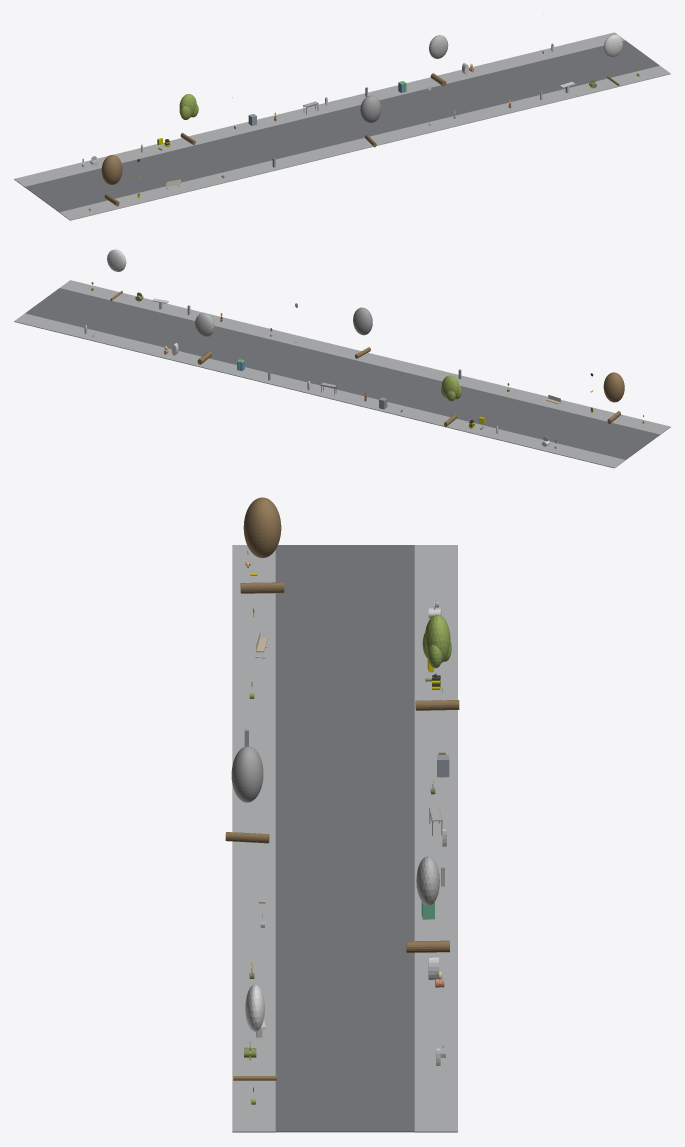
3 renders of one model, top to bottom at view 1: azimuth 30°, elevation 25°; view 2: azimuth 150°, elevation 25°; view 3: azimuth 270°, elevation 25°, orthographic. The views are drawn at different scales.
Parts seen in each view (by area): view 1: road_slab, sidewalk_left, sidewalk_right, inst_0012, inst_0014, inst_0013, inst_0015, inst_0016; view 2: road_slab, sidewalk_right, sidewalk_left, inst_0012, inst_0014, inst_0013, inst_0015, inst_0016; view 3: road_slab, sidewalk_left, sidewalk_right, inst_0012, inst_0014, inst_0013, inst_0015, inst_0016.
Boxes of the visible parts, x1,y1,x2,y2 form: road_slab: (25, 40, 659, 212); sidewalk_left: (59, 66, 670, 220); sidewalk_right: (14, 32, 624, 187); inst_0012: (101, 155, 122, 206); inst_0014: (360, 95, 381, 147); inst_0013: (179, 94, 198, 145); inst_0015: (429, 35, 448, 86); inst_0016: (603, 34, 622, 85); road_slab: (25, 288, 659, 460); sidewalk_right: (14, 313, 625, 468); sidewalk_left: (60, 280, 670, 434); inst_0012: (603, 372, 624, 423); inst_0014: (353, 307, 372, 358); inst_0013: (441, 375, 461, 426); inst_0015: (195, 313, 214, 364); inst_0016: (107, 249, 126, 300); road_slab: (275, 545, 414, 1132); sidewalk_left: (232, 545, 275, 1132); sidewalk_right: (414, 545, 457, 1132); inst_0012: (240, 497, 284, 593); inst_0014: (225, 746, 269, 843); inst_0013: (415, 614, 459, 710); inst_0015: (406, 856, 449, 952); inst_0016: (233, 984, 276, 1080).
Bounding box in the file's own units: 80 × 6.08 × 13.48.
